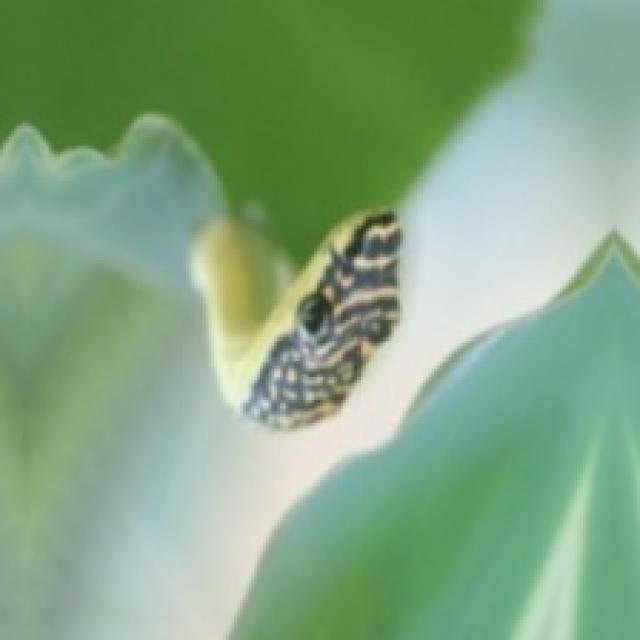paradise tree snake: (189, 211, 400, 426), (243, 211, 397, 426)
